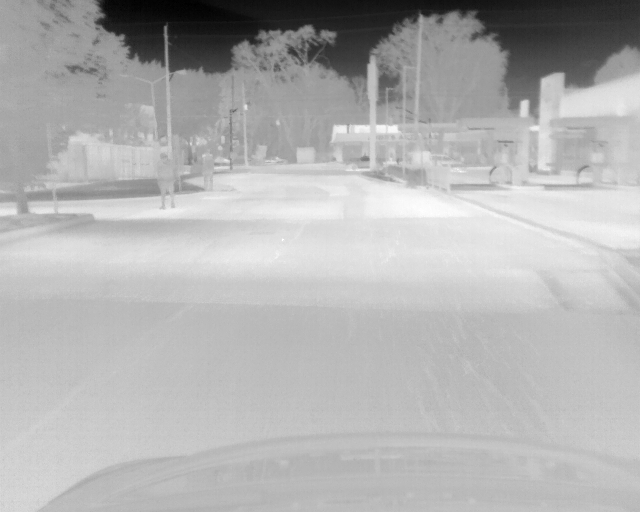car: (345, 155, 386, 170), (421, 154, 462, 168), (264, 155, 289, 167)
people: (155, 152, 178, 210), (198, 148, 216, 193)
